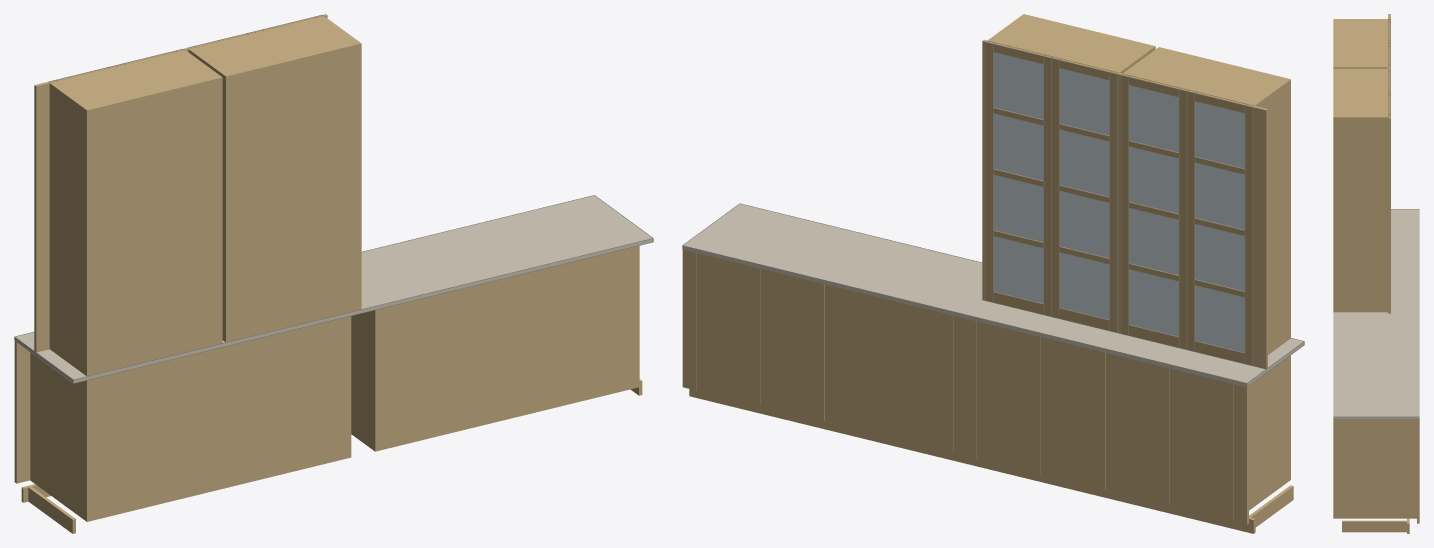
File: modell.glb
3 views of the same model, side by side, from view 1: azimuth 30°, elevation 25°; view 2: azimuth 150°, elevation 25°; view 3: azimuth 270°, elevation 25° (orthographic). The views are drawn at different scales.
Size of the model in its own units: 3423 by 2400 by 603.
